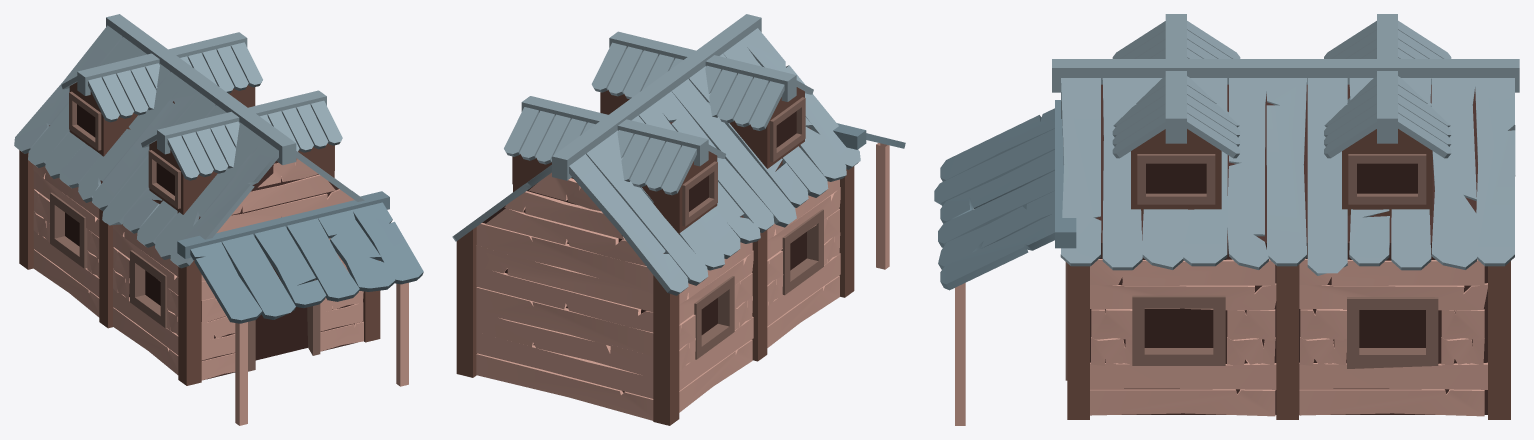
Rendered from Building_023.glb.
The picture shows the model from 3 angles, left to right: view 1: azimuth 30°, elevation 25°; view 2: azimuth 150°, elevation 25°; view 3: azimuth 270°, elevation 25°; orthographic projection. The views are drawn at different scales.
Visible parts, largest first — view 1: Building_023; view 2: Building_023; view 3: Building_023.
Part boxes in pixels (bbox=[...]): Building_023: bbox=[14, 14, 423, 425]; Building_023: bbox=[452, 14, 905, 425]; Building_023: bbox=[934, 14, 1519, 425].
Bounding box in the file's own units: 7.91 × 8.11 × 13.92.
Materials: 1 (1 with a texture image).
